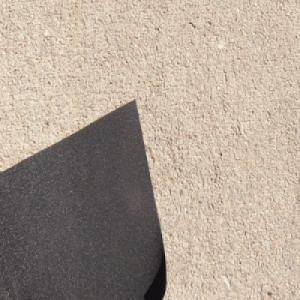PaintChip: (0, 96, 169, 300)
